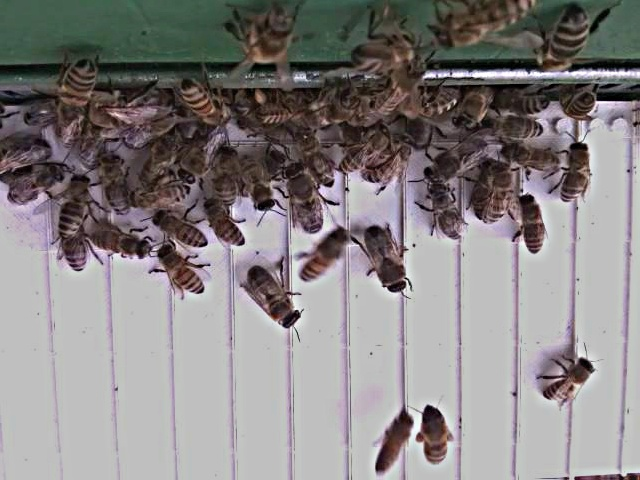Drone: (422, 132, 495, 189), (361, 224, 412, 298), (176, 119, 229, 190), (247, 266, 304, 332), (282, 163, 327, 238)
Worker: (148, 247, 213, 302), (89, 219, 155, 266), (96, 150, 138, 220), (540, 356, 598, 406), (56, 174, 93, 243), (558, 140, 595, 208), (204, 198, 250, 251), (301, 127, 339, 190), (344, 125, 389, 178), (153, 212, 207, 256), (240, 153, 278, 215), (485, 115, 553, 148), (178, 77, 227, 122), (365, 146, 417, 188), (517, 192, 550, 257), (429, 183, 464, 242), (499, 143, 561, 176), (212, 144, 241, 212), (486, 168, 515, 229)
